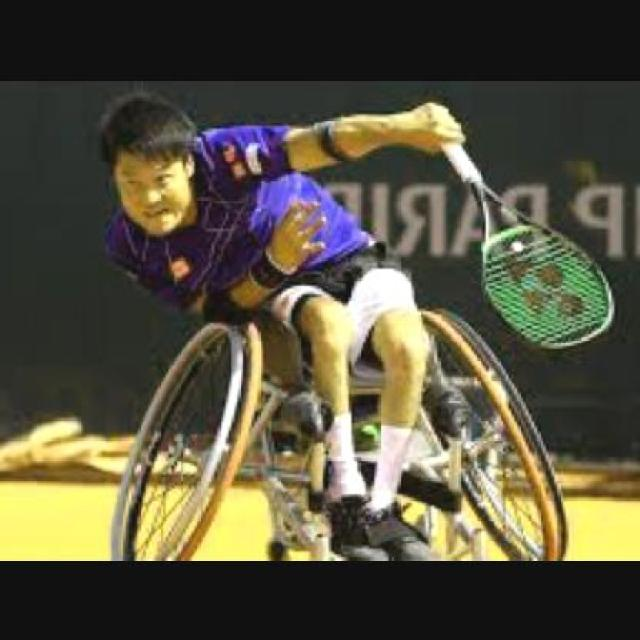wheelchairs: (99, 225, 585, 559)
